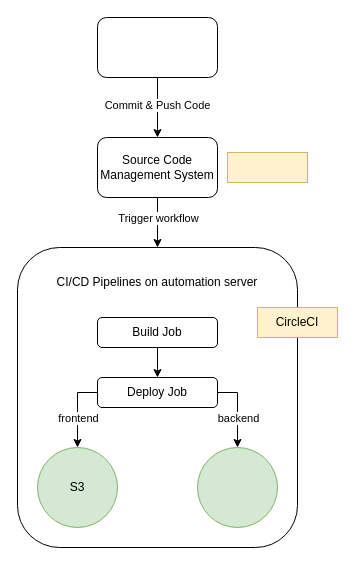
Some shapes in this 355 by 565 pixel diagram are drawn without their labels. The shapes that lost their labels are listed below. From the top down, each one's centre as x and y in pixels, then its label:
At point 157,47: "Developers".
At point 267,167: "Github/Gitab".
At point 237,487: "Beanstalk".
